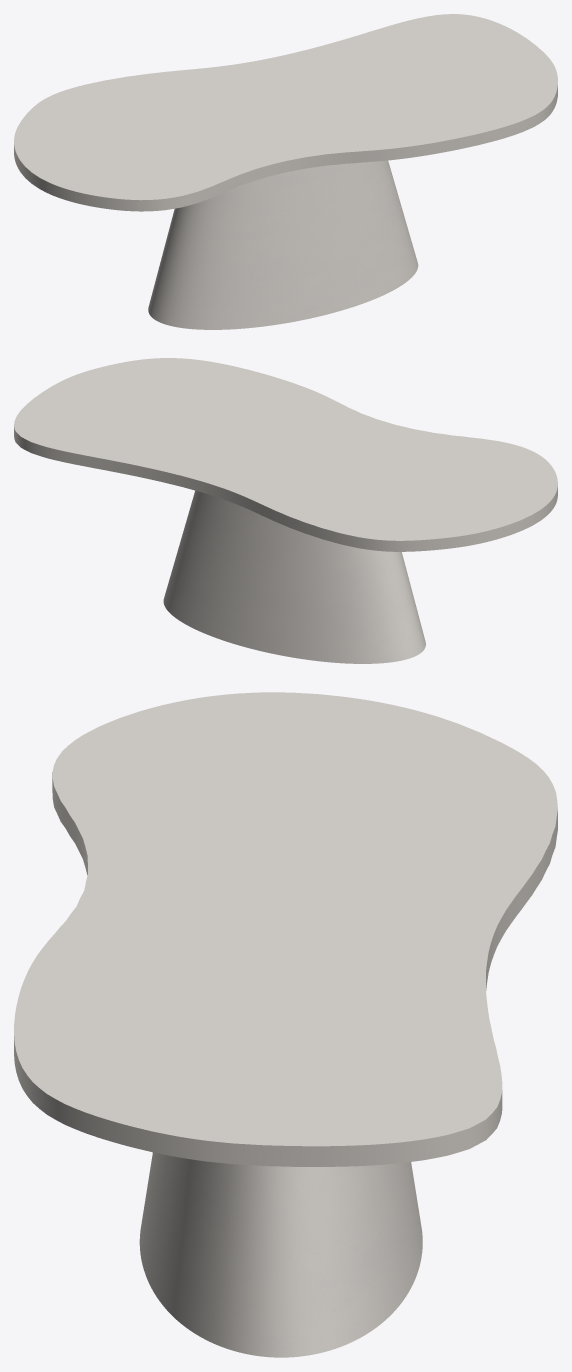
Rendered from pearlwhite_wave_standard_eqone.glb.
3 renders of one model, top to bottom at view 1: azimuth 30°, elevation 25°; view 2: azimuth 150°, elevation 25°; view 3: azimuth 270°, elevation 25°, orthographic. The views are drawn at different scales.
Parts seen in each view (by area): view 1: standard_wave, eqone; view 2: standard_wave, eqone; view 3: standard_wave, eqone.
Boxes of the visible parts, x1,y1,x2,y2 form: standard_wave: (14,14,557,211); eqone: (148,160,418,329); standard_wave: (14,358,557,551); eqone: (163,490,425,663); standard_wave: (14,692,557,1166); eqone: (139,1152,422,1357).
Bounding box in the file's own units: 7.5 × 2.5 × 3.8.
Materials: 1 (1 with a texture image).
